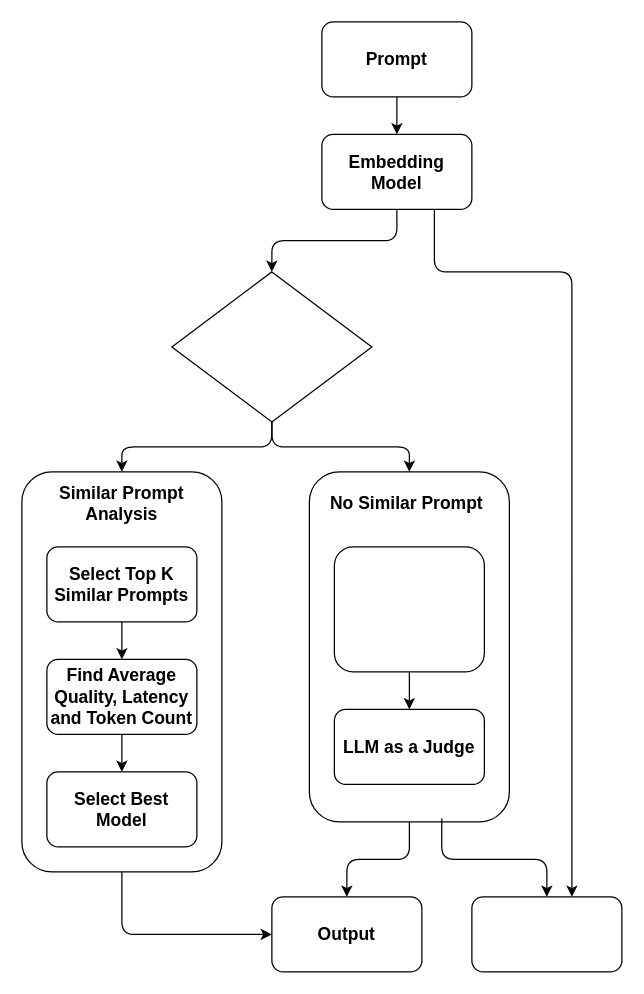
This 644x994 diagram has some shape labels left out. The centre of each missing label's shape, as x and y in pixels:
"Execute on Global Fastest or Highest Quality Model" goes at pixel 408 609.
"Knowledge Base" goes at pixel 546 934.
"Similar Prompts (Similarity > Τ)" goes at pixel 271 346.
